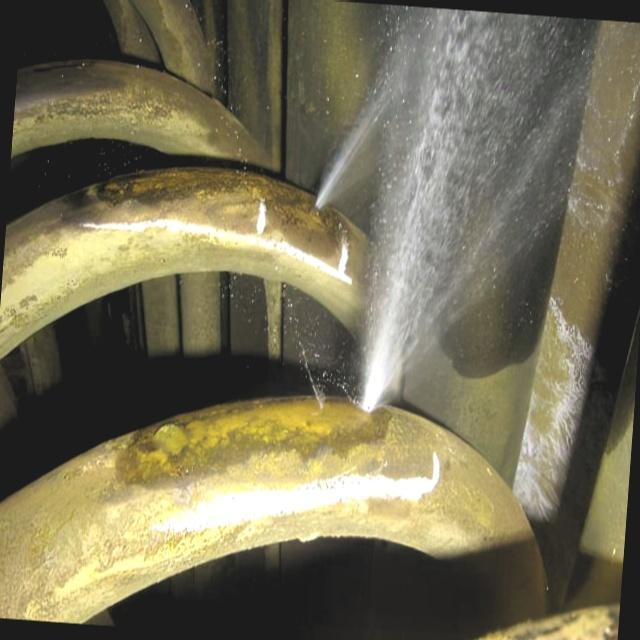pipe burst: (350, 0, 640, 420), (304, 77, 390, 219)
